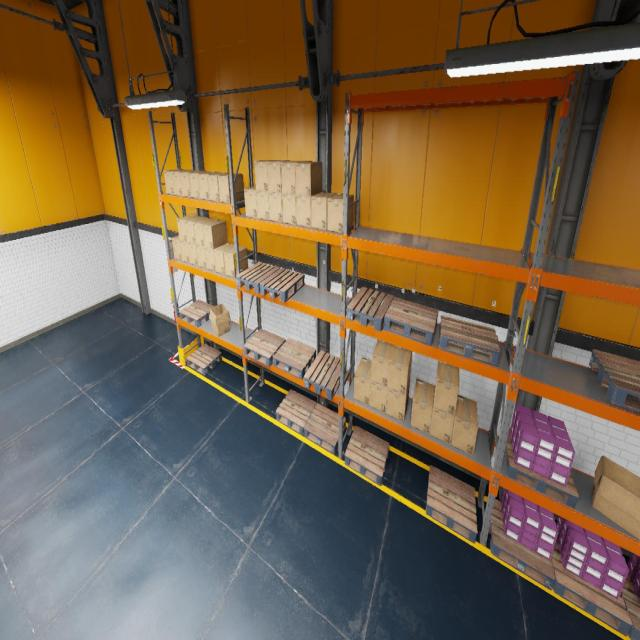box: (592, 455, 640, 540), (451, 395, 478, 455), (433, 360, 459, 416), (410, 378, 435, 434), (430, 386, 454, 444), (388, 345, 412, 395), (386, 376, 410, 422), (371, 340, 394, 388), (328, 193, 353, 233), (311, 192, 337, 230), (295, 161, 322, 196), (354, 357, 372, 406), (223, 245, 248, 278), (280, 160, 304, 194), (218, 173, 245, 203), (267, 160, 291, 193), (254, 160, 278, 192), (202, 219, 227, 249), (188, 170, 213, 198), (209, 303, 230, 336), (193, 218, 216, 246), (177, 214, 200, 242), (180, 170, 203, 197), (214, 243, 234, 274), (185, 216, 207, 244), (198, 172, 220, 200), (207, 172, 227, 202), (370, 381, 388, 414), (172, 170, 194, 196), (164, 169, 186, 194), (296, 195, 311, 227), (282, 193, 296, 225), (268, 192, 282, 222), (244, 186, 257, 218), (256, 191, 269, 220), (204, 247, 216, 272), (187, 242, 198, 266), (172, 236, 182, 260), (196, 245, 206, 268), (180, 241, 190, 263)
pallets: (551, 539, 632, 636), (489, 499, 555, 590), (504, 428, 579, 508), (426, 466, 477, 544), (589, 349, 640, 412), (439, 315, 501, 366), (344, 425, 389, 486), (384, 297, 438, 345), (304, 403, 346, 454), (346, 287, 394, 331), (304, 350, 346, 400), (276, 390, 316, 436), (272, 338, 316, 379), (244, 329, 285, 367), (260, 268, 304, 302), (236, 262, 280, 293), (620, 574, 640, 640), (186, 344, 222, 375), (179, 300, 214, 327)
